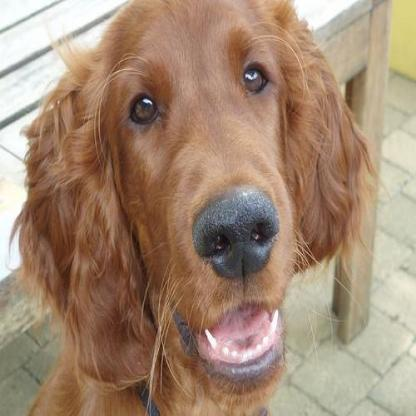Irish_setter: (5, 0, 389, 414)
